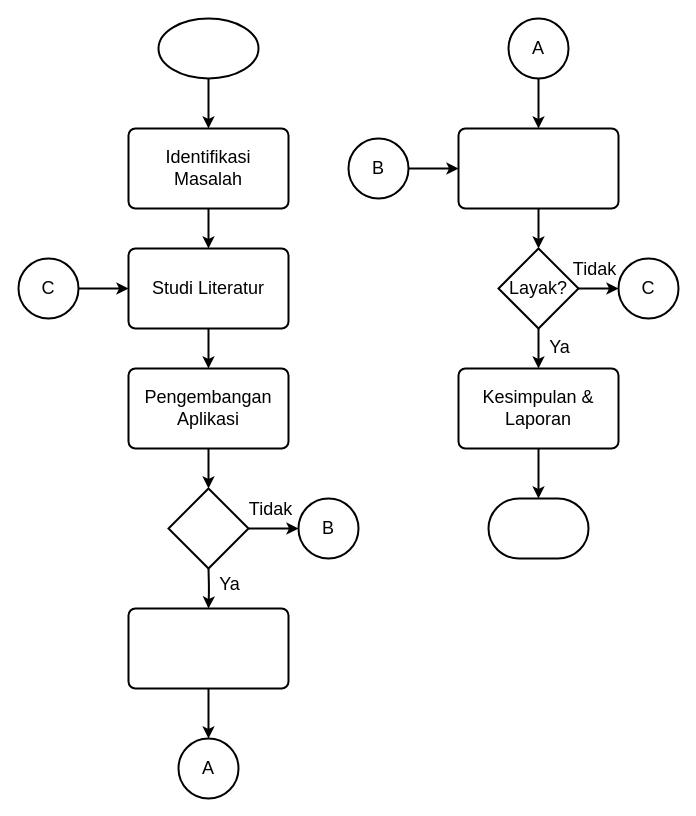
Image size: 696x816. Some labels were removed from this diagram. Here are the shapes that lost their labels. From the top down, the centre of each, then its label:
At (x=208, y=48): "Mulai".
At (x=538, y=168): "Umpan Balik".
At (x=208, y=528): "Final?".
At (x=538, y=528): "Selesai".
At (x=208, y=648): "Pengujian".
